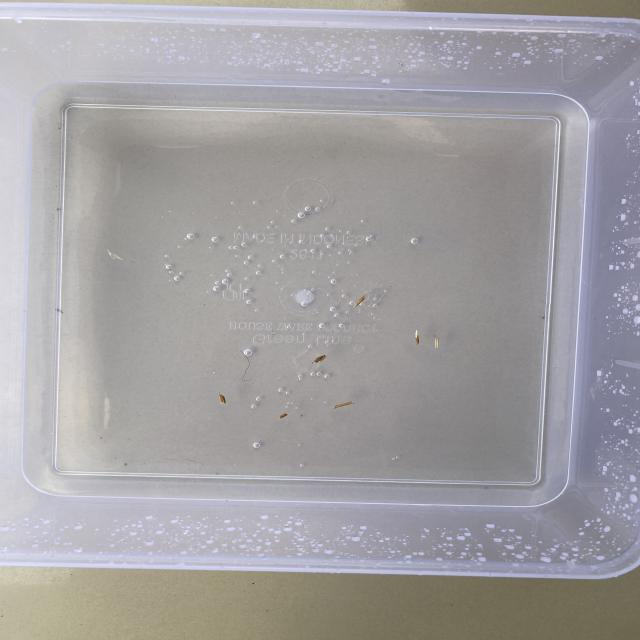Wereng: (209, 390, 235, 407), (351, 293, 375, 310), (306, 352, 331, 368), (408, 328, 427, 348), (333, 398, 359, 411), (429, 335, 446, 352), (277, 410, 295, 424)
